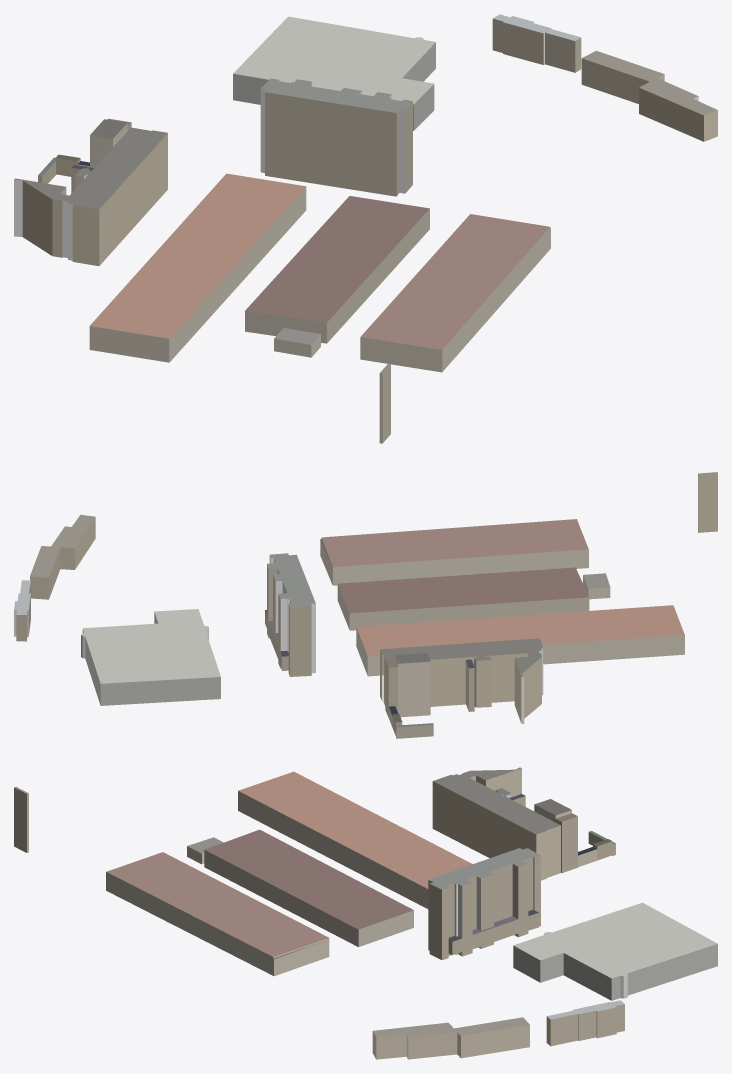
The picture shows the model from 3 angles, top to bottom: view 1: azimuth 30°, elevation 25°; view 2: azimuth 150°, elevation 25°; view 3: azimuth 270°, elevation 25°; orthographic projection. The views are drawn at different scales.
Parts seen in each view (by area): view 1: tuile; view 2: tuile; view 3: tuile.
Boxes of the visible parts, x1,y1,x2,y2 form: tuile: [14, 14, 717, 443]; tuile: [14, 472, 717, 738]; tuile: [14, 767, 717, 1059].
Bounding box in the file's own units: 256 × 31.56 × 274.
